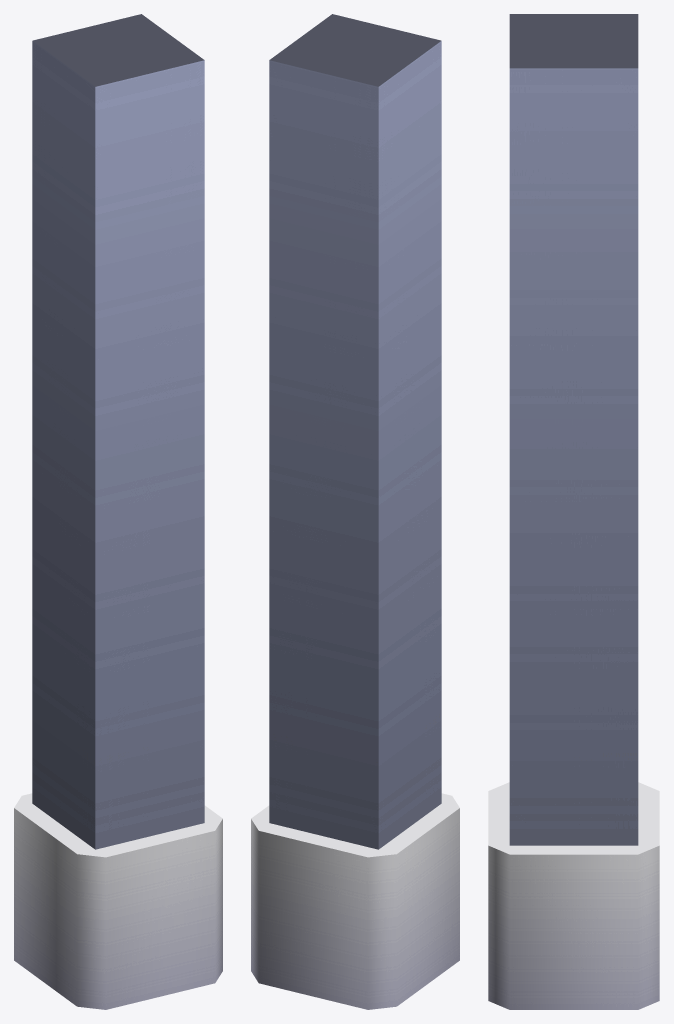
Rendered from column-thin.glb.
3 renders of one model, left to right at view 1: azimuth 30°, elevation 25°; view 2: azimuth 150°, elevation 25°; view 3: azimuth 270°, elevation 25°, orthographic.
Visible parts, largest first — view 1: column-thin; view 2: column-thin; view 3: column-thin.
Part boxes in pixels (x1,y1,x2,y2): column-thin: (14, 14, 222, 1009); column-thin: (251, 14, 459, 1009); column-thin: (488, 14, 659, 1009).
Size of the model in its own units: 0.4 by 2.4 by 0.4.
Materials: 1 (1 with a texture image).
